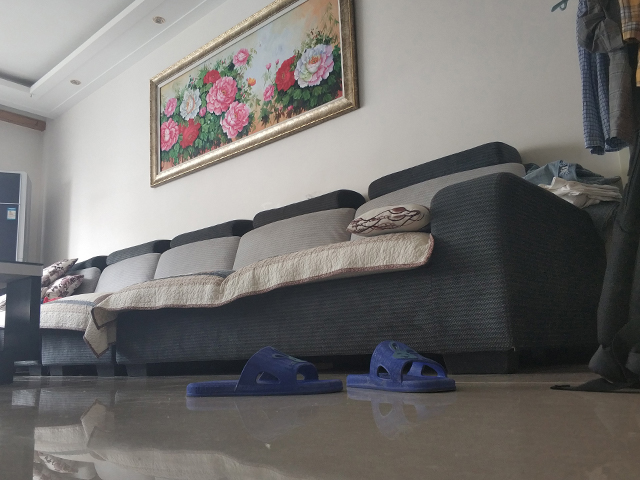slippers: (187, 343, 340, 396), (342, 338, 459, 393)
sofa: (40, 140, 609, 376)
